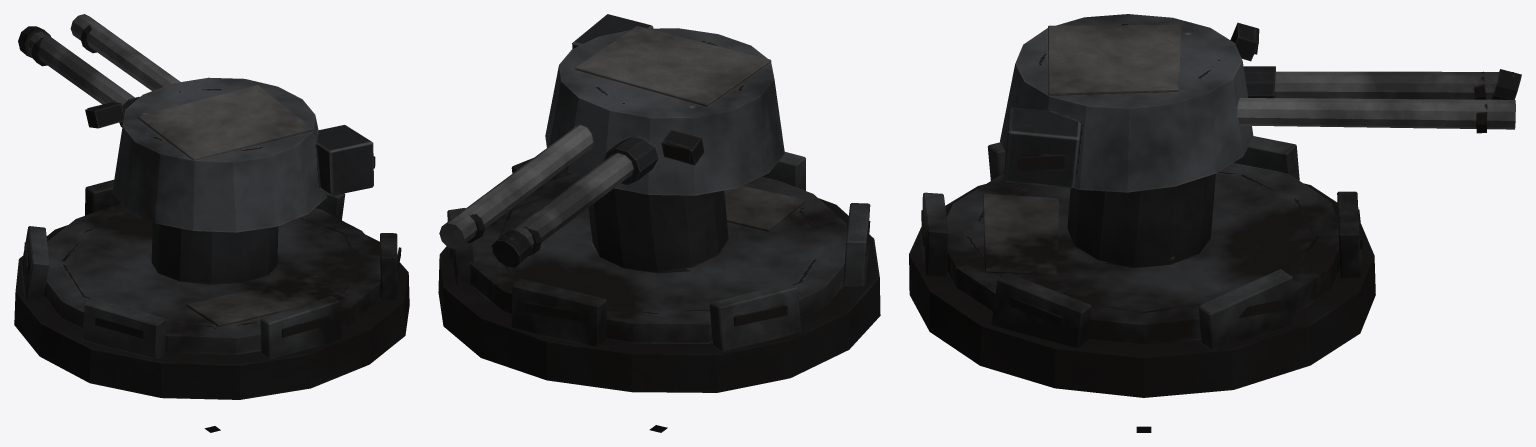
File: chs_spike_wreck.fbx
3 renders of one model, left to right at view 1: azimuth 30°, elevation 25°; view 2: azimuth 150°, elevation 25°; view 3: azimuth 270°, elevation 25°, orthographic. The views are drawn at different scales.
Parts seen in each view (by area): view 1: base_bar, turret_bar; view 2: base_bar, turret_bar; view 3: base_bar, turret_bar.
Part boxes in pixels (x1,y1,x2,y2): base_bar: [14, 179, 409, 399]; turret_bar: [18, 14, 375, 232]; base_bar: [438, 152, 880, 392]; turret_bar: [439, 14, 784, 267]; base_bar: [909, 136, 1375, 397]; turret_bar: [1000, 14, 1521, 192].
Size of the model in its own units: 637 by 566 by 838.
Materials: 2 (2 with a texture image).
